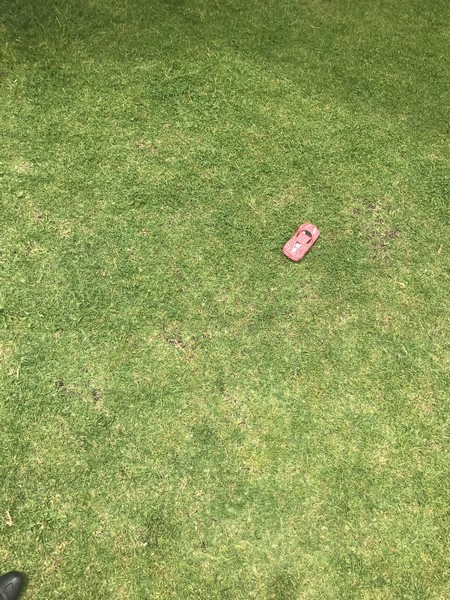RC: (282, 221, 322, 263)
